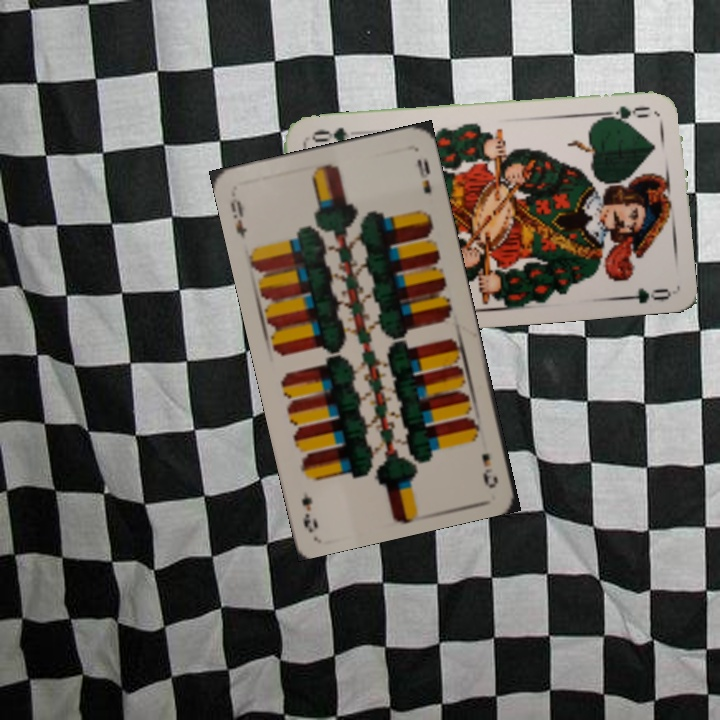E9: (226, 194, 250, 242), (477, 449, 501, 491)
GO: (596, 101, 652, 123)
